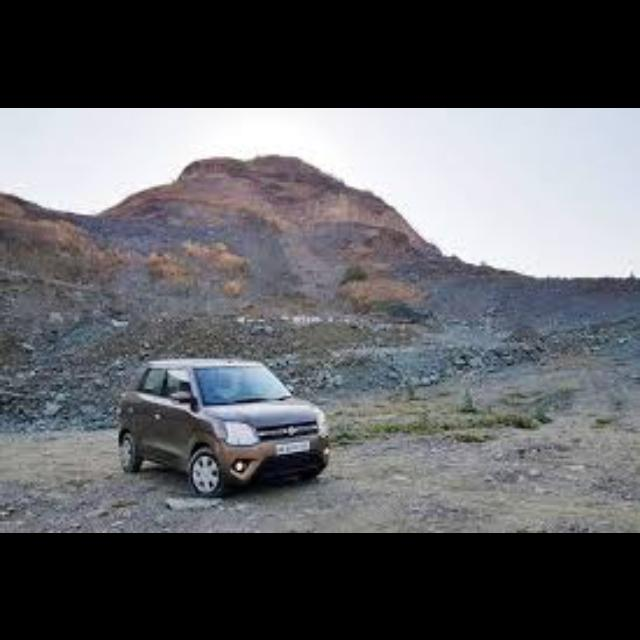number-plate: (275, 438, 310, 454)
vehicles: (114, 354, 333, 496)
